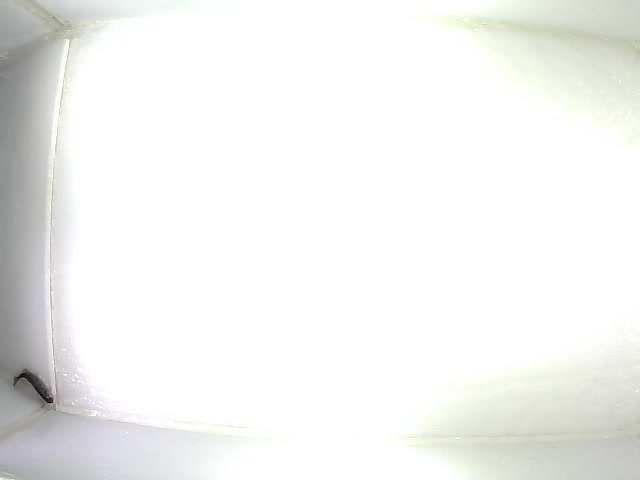fish: (12, 366, 55, 404)
